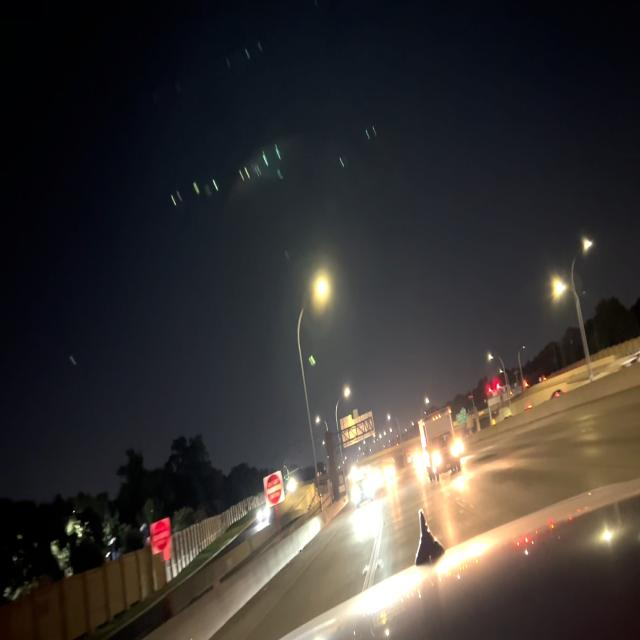back-of-sign: (340, 409, 376, 447)
